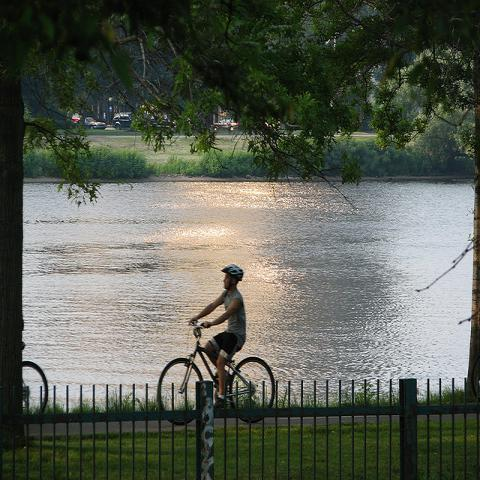car: (139, 110, 178, 136), (82, 115, 106, 132), (112, 113, 132, 130), (212, 122, 238, 132), (265, 118, 281, 130), (70, 113, 81, 124), (220, 117, 234, 123)
